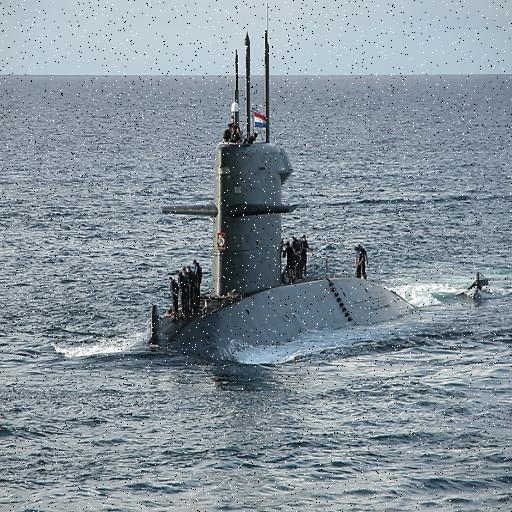submarine: (130, 24, 507, 371)
